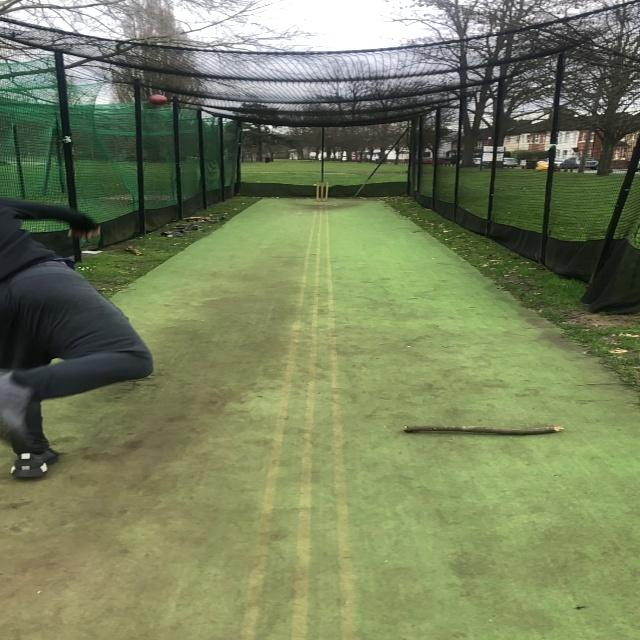ball: (149, 94, 168, 106)
